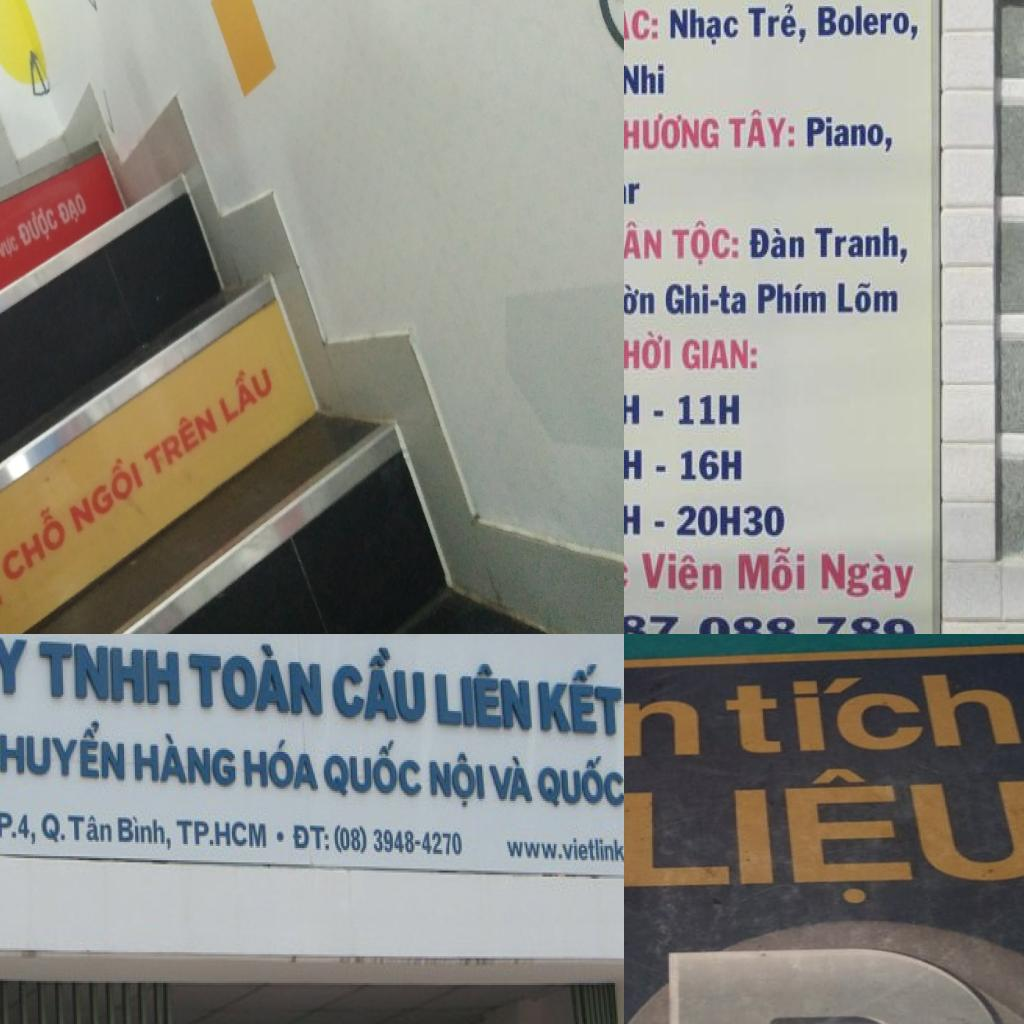text: (624, 758, 1024, 913), (724, 667, 1024, 756), (181, 634, 327, 725), (35, 638, 183, 709), (326, 640, 432, 730), (0, 719, 130, 786), (432, 656, 537, 738), (535, 654, 624, 744), (62, 444, 146, 536), (130, 725, 240, 791), (140, 396, 220, 482), (318, 738, 424, 801), (624, 683, 706, 763), (0, 499, 71, 589), (532, 751, 624, 811), (334, 822, 471, 862), (238, 735, 326, 795), (817, 547, 915, 600), (674, 499, 790, 542), (499, 835, 624, 872), (815, 0, 920, 43), (424, 746, 488, 815), (638, 546, 724, 596), (808, 221, 910, 262), (802, 112, 895, 155), (668, 216, 742, 269), (670, 384, 746, 434), (735, 542, 808, 593), (624, 113, 718, 151), (661, 279, 749, 319), (174, 818, 271, 854), (724, 104, 799, 150), (666, 4, 741, 49), (676, 443, 749, 489), (679, 336, 762, 373), (38, 809, 116, 848), (754, 278, 830, 318), (745, 0, 809, 47), (744, 221, 808, 264), (487, 754, 538, 807), (834, 278, 900, 318), (14, 200, 62, 254), (624, 325, 674, 374), (116, 811, 174, 852), (0, 634, 30, 700), (54, 188, 93, 234), (624, 219, 667, 260), (287, 820, 335, 856), (0, 807, 42, 848), (624, 57, 668, 94), (624, 7, 660, 47), (624, 279, 659, 318), (624, 439, 646, 485), (624, 499, 645, 543), (624, 170, 646, 206), (0, 230, 22, 262), (624, 390, 642, 429)
